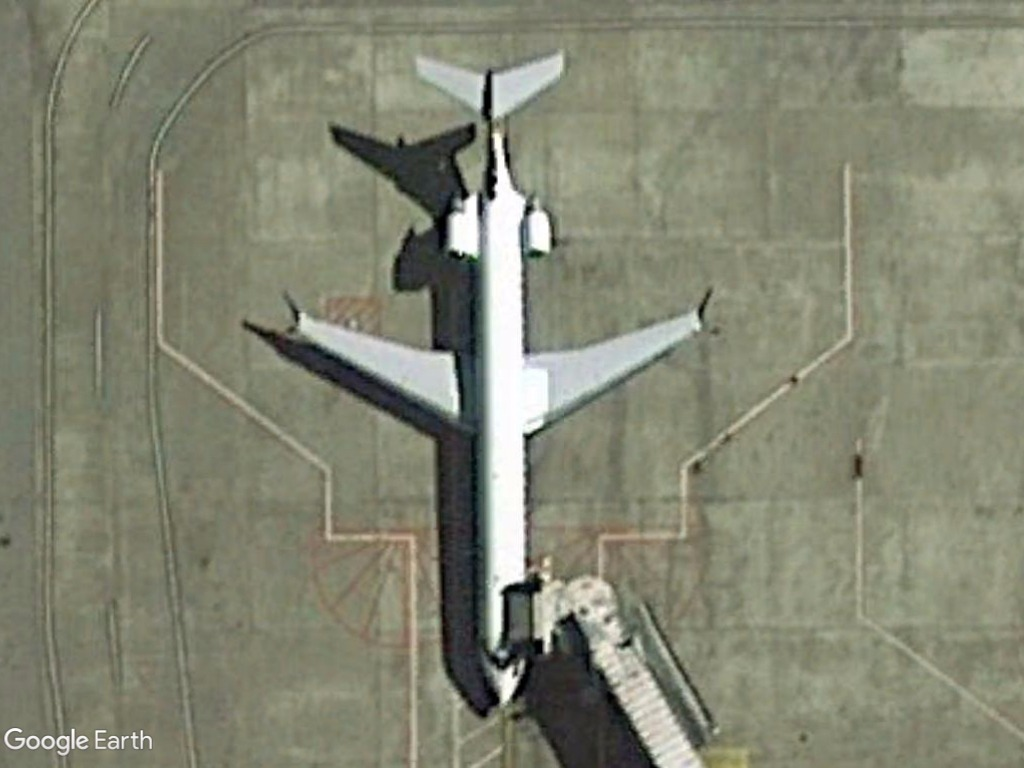chartered: (267, 47, 714, 718)
